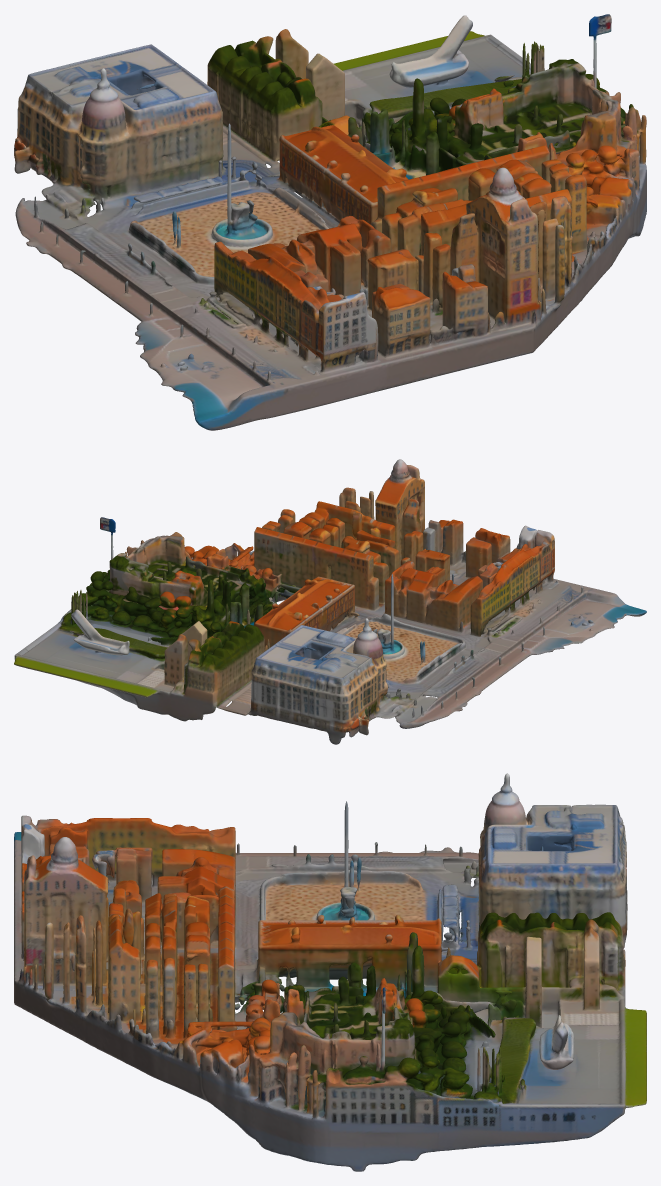
Rendered from Nice_France.glb.
The picture shows the model from 3 angles, top to bottom: view 1: azimuth 30°, elevation 25°; view 2: azimuth 150°, elevation 25°; view 3: azimuth 270°, elevation 25°; orthographic projection. The views are drawn at different scales.
Visible parts, largest first — view 1: tripo_node_cd31026b-0a6d-46eb-81ff-d3f6d6661ac2; view 2: tripo_node_cd31026b-0a6d-46eb-81ff-d3f6d6661ac2; view 3: tripo_node_cd31026b-0a6d-46eb-81ff-d3f6d6661ac2.
Part boxes in pixels (x1=…): tripo_node_cd31026b-0a6d-46eb-81ff-d3f6d6661ac2: x1=14, y1=14, x2=646, y2=430; tripo_node_cd31026b-0a6d-46eb-81ff-d3f6d6661ac2: x1=14, y1=459, x2=646, y2=744; tripo_node_cd31026b-0a6d-46eb-81ff-d3f6d6661ac2: x1=14, y1=773, x2=646, y2=1171.
Bounding box in the file's own units: 1 × 0.3281 × 0.9226.
1 material, 1 textured.
